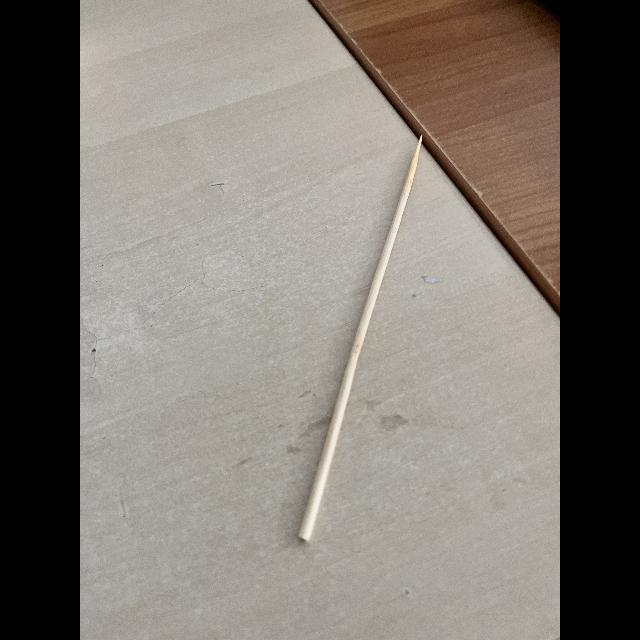stick: (276, 112, 458, 570)
